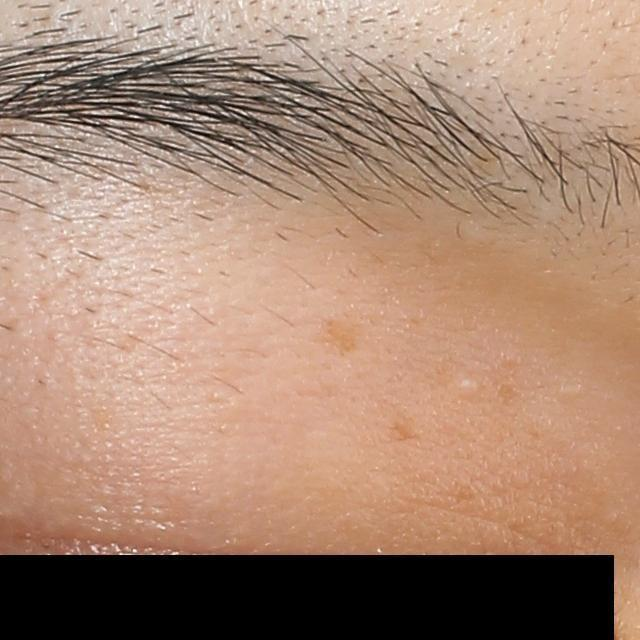melasma: (314, 310, 365, 357), (392, 421, 421, 443)
